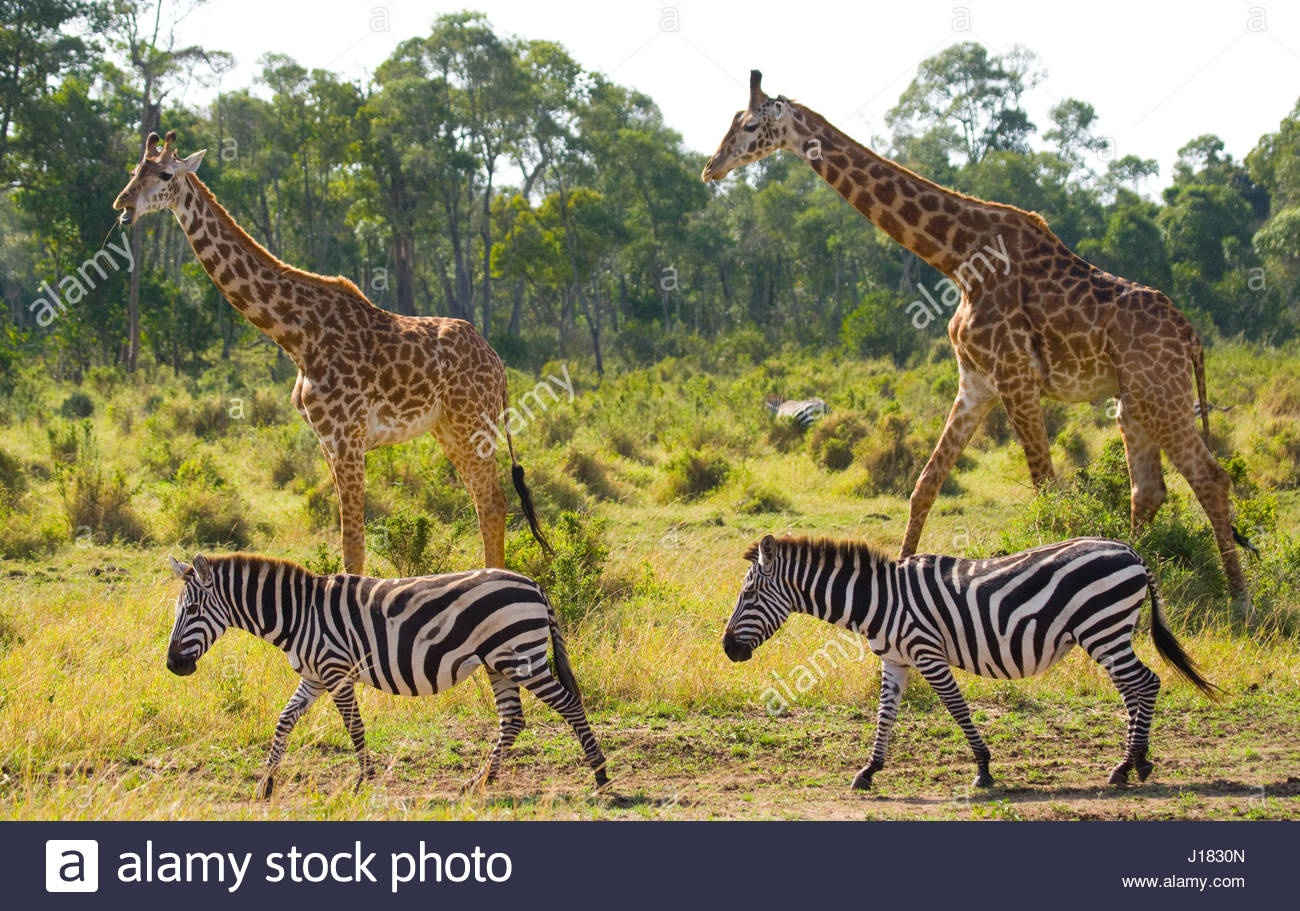giraffe: (697, 64, 1268, 630), (105, 124, 517, 582)
zebra: (718, 527, 1229, 800), (158, 549, 623, 810)
